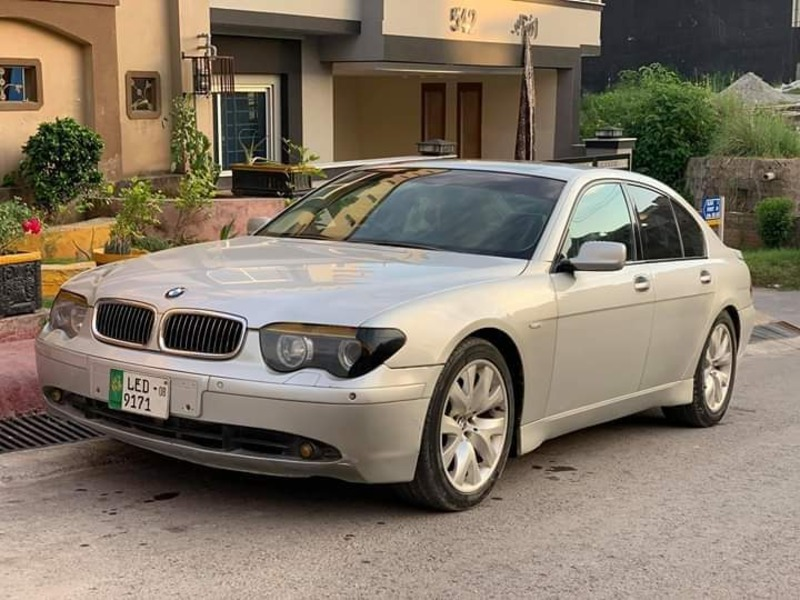License Plate: (103, 366, 177, 424)
